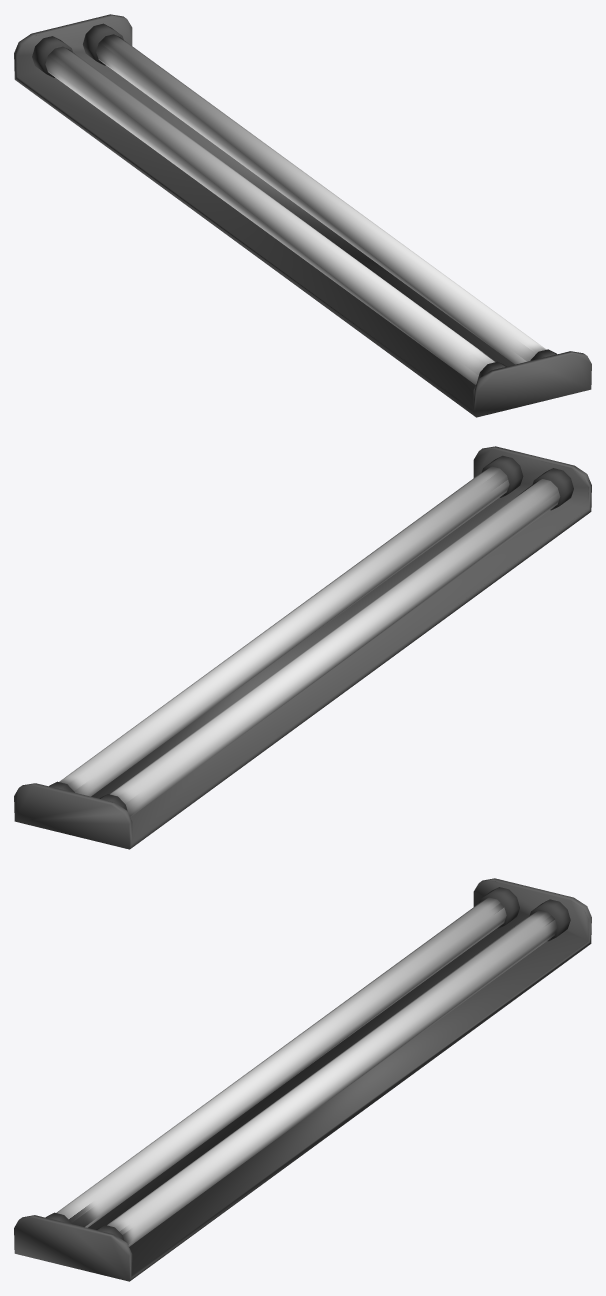
File: Lights.fbx
3 views of the same model, one above another, from view 1: azimuth 30°, elevation 25°; view 2: azimuth 150°, elevation 25°; view 3: azimuth 330°, elevation 25° (orthographic).
Visible parts, largest first — view 1: Mesh; view 2: Mesh; view 3: Mesh.
Boxes of the visible parts, x1,y1,x2,y2 form: Mesh: [14, 14, 591, 417]; Mesh: [14, 446, 591, 849]; Mesh: [14, 878, 591, 1281].
Bounding box in the file's own units: 32.61 × 11.09 × 228.
